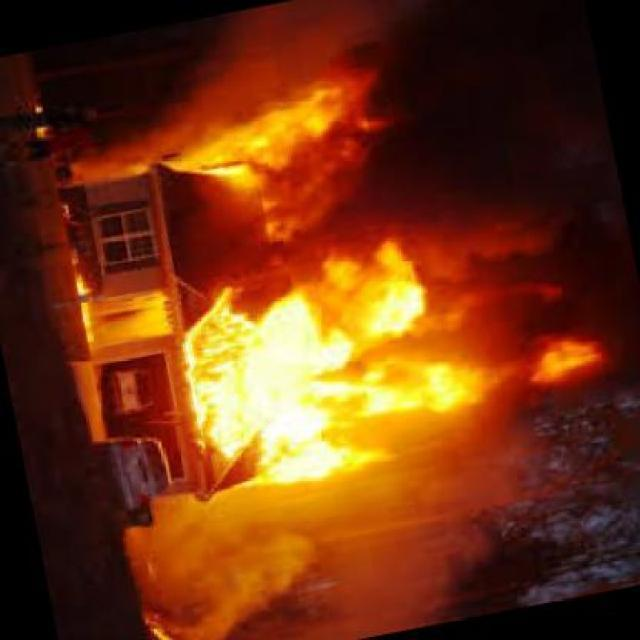Fire: (180, 246, 497, 484), (178, 84, 358, 188)
Smoke: (365, 6, 610, 244), (137, 491, 526, 638), (497, 231, 640, 498), (134, 0, 420, 81)
